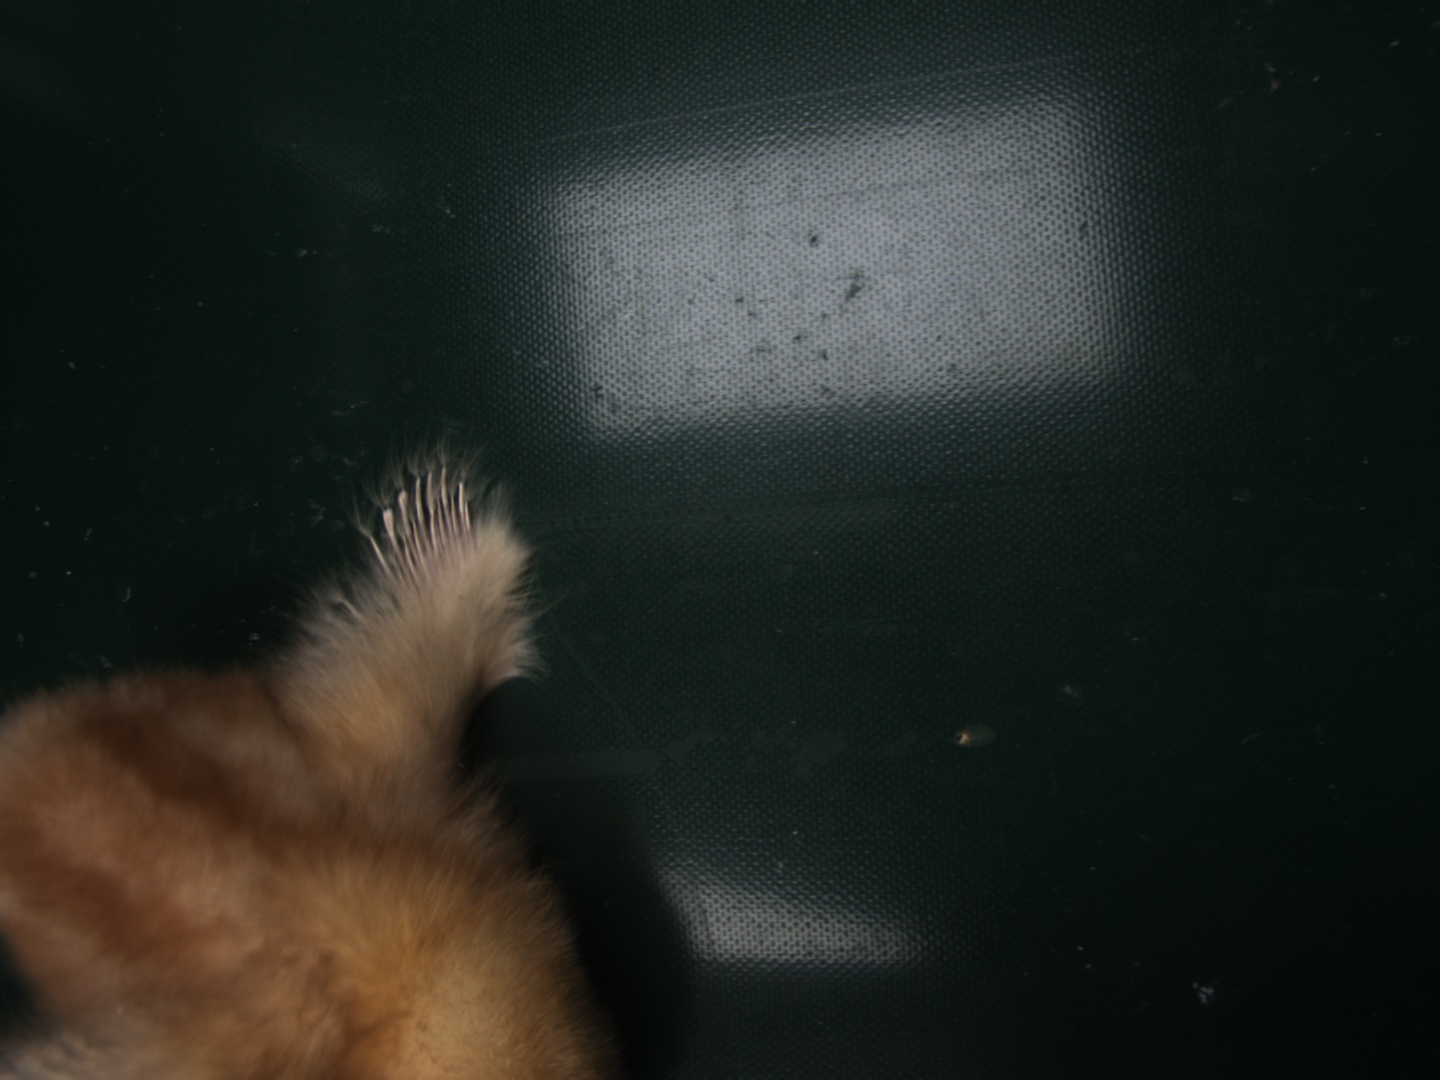female: (369, 466, 478, 576)
